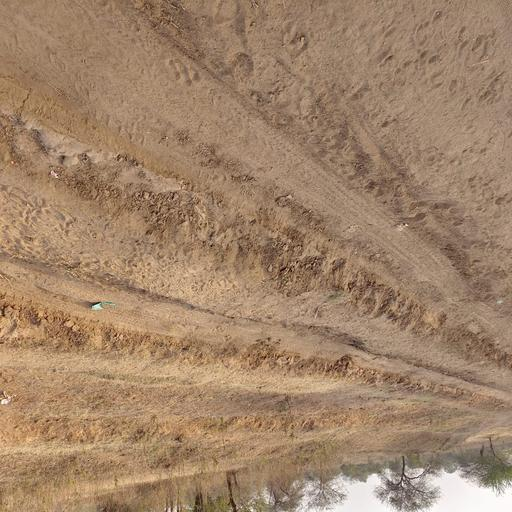vehicle_track: (0, 0, 512, 358), (0, 257, 512, 403)
